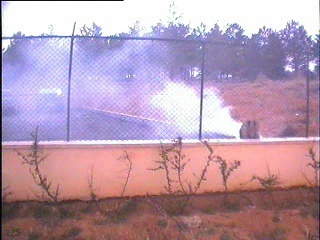smoke: (102, 47, 241, 140)
